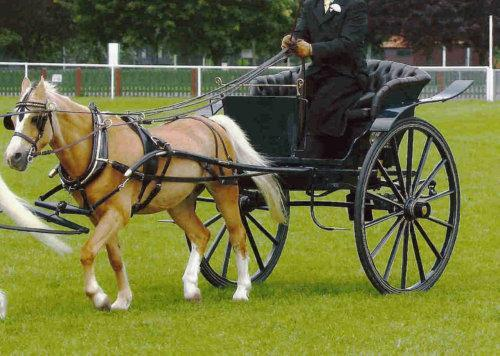horse: (4, 71, 291, 312)
